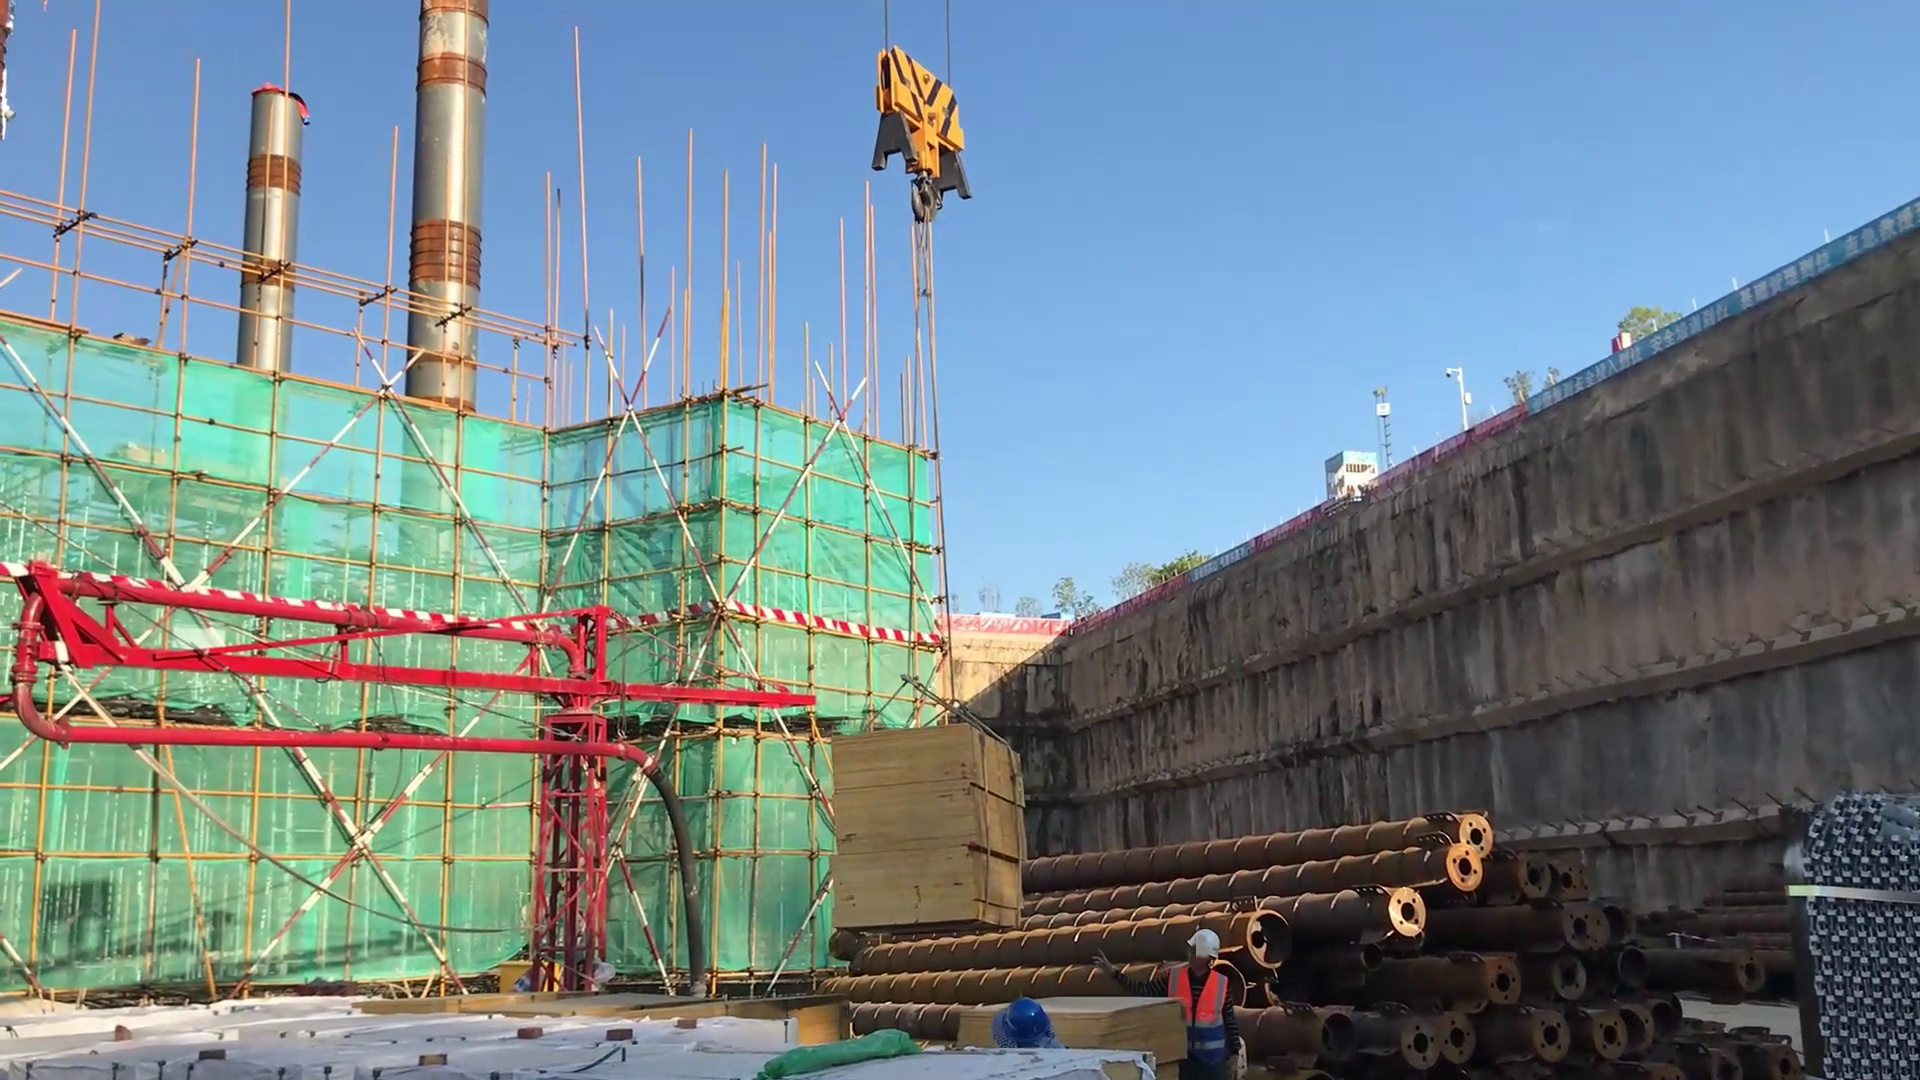board: (827, 718, 1016, 938), (958, 990, 1184, 1070)
ebox: (497, 956, 562, 1001)
helmet: (993, 991, 1063, 1051), (1187, 930, 1225, 976)
hook: (833, 35, 1006, 316)
person: (1092, 927, 1263, 1079)
scaffold: (1786, 791, 1919, 1080)
slogan: (1519, 187, 1920, 424), (1188, 537, 1265, 591)
vest: (1162, 964, 1241, 1068)
